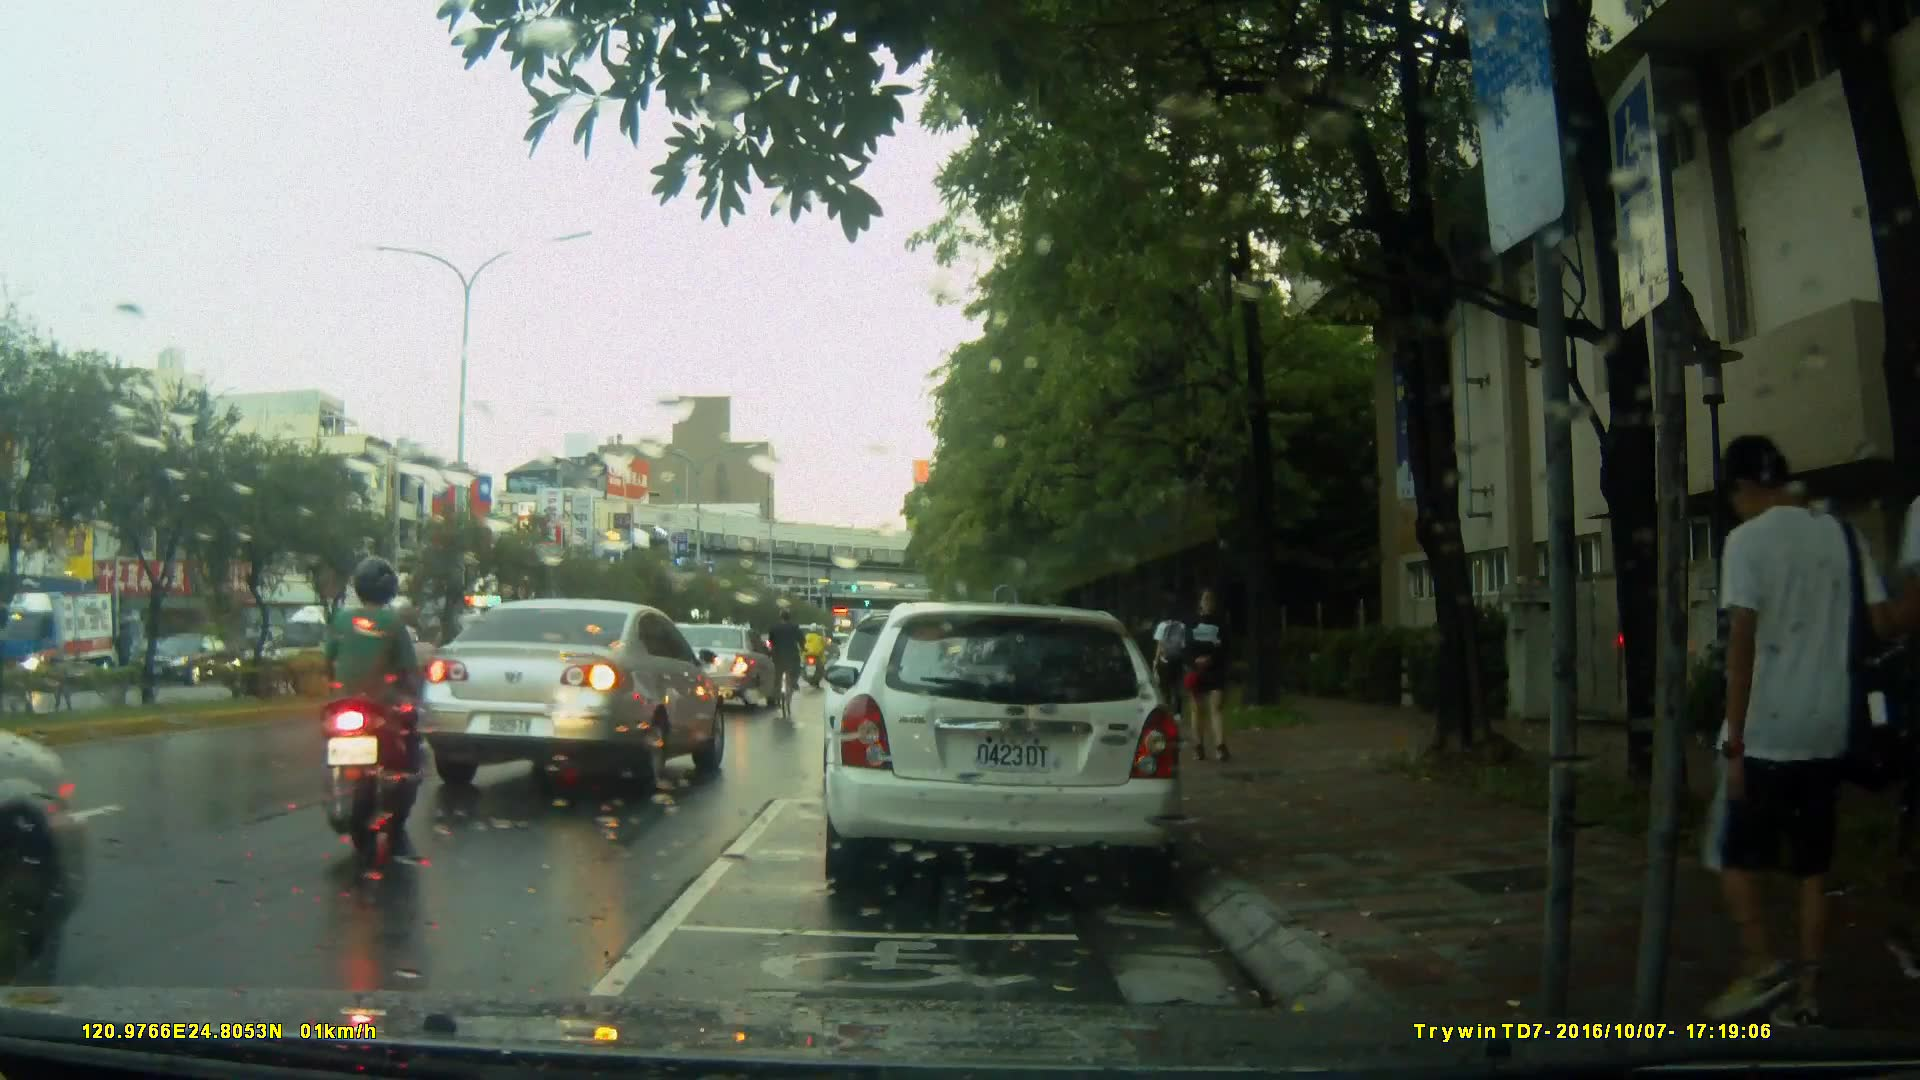pedestrian: (1679, 420, 1835, 1026), (1172, 587, 1232, 763), (1145, 604, 1193, 732)
rider: (309, 557, 412, 880), (336, 585, 439, 757), (766, 610, 803, 730), (803, 616, 832, 691)
vehicle: (820, 602, 1188, 898), (418, 594, 728, 798), (1, 587, 128, 699), (642, 624, 783, 714)
